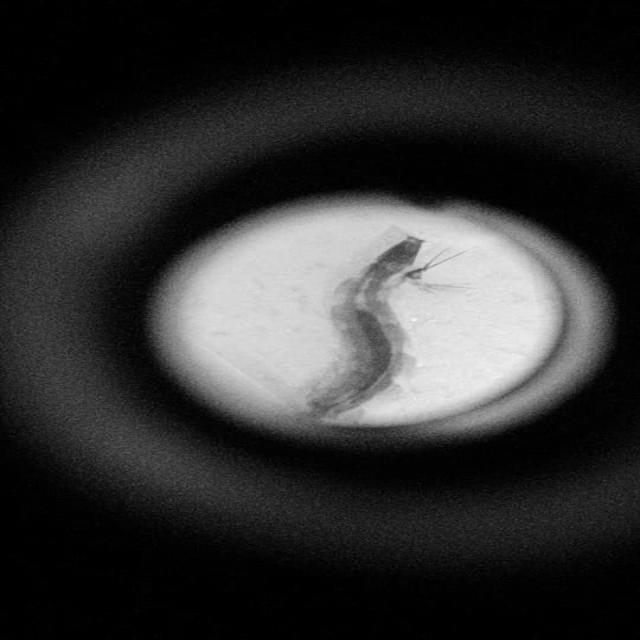larvas: (298, 237, 437, 418)
